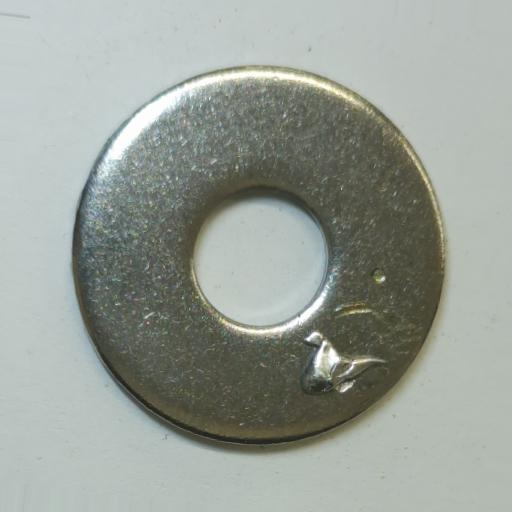excess_material: (301, 330, 389, 396)
